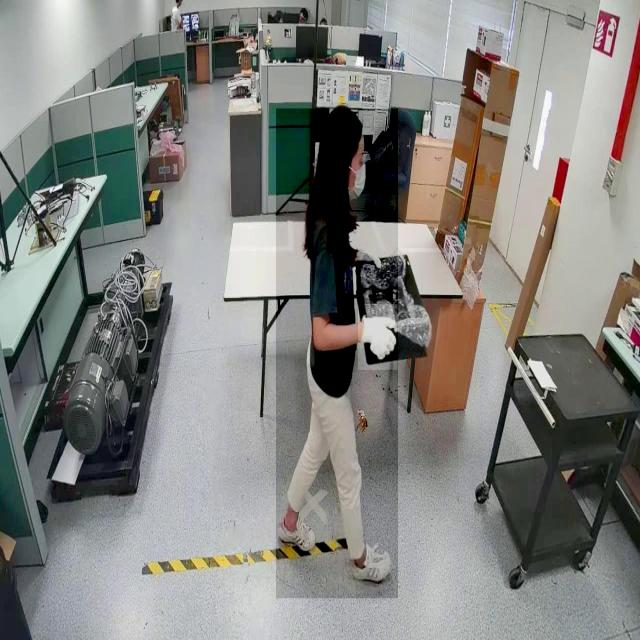hand_glove: (358, 304, 398, 370), (348, 144, 374, 211)
head_nohelmet: (321, 102, 363, 140)
person: (276, 109, 398, 599)
shoes: (276, 510, 316, 558), (351, 538, 393, 583)
